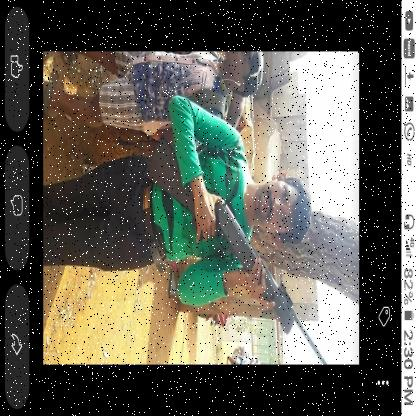rifle: (140, 131, 328, 365)
